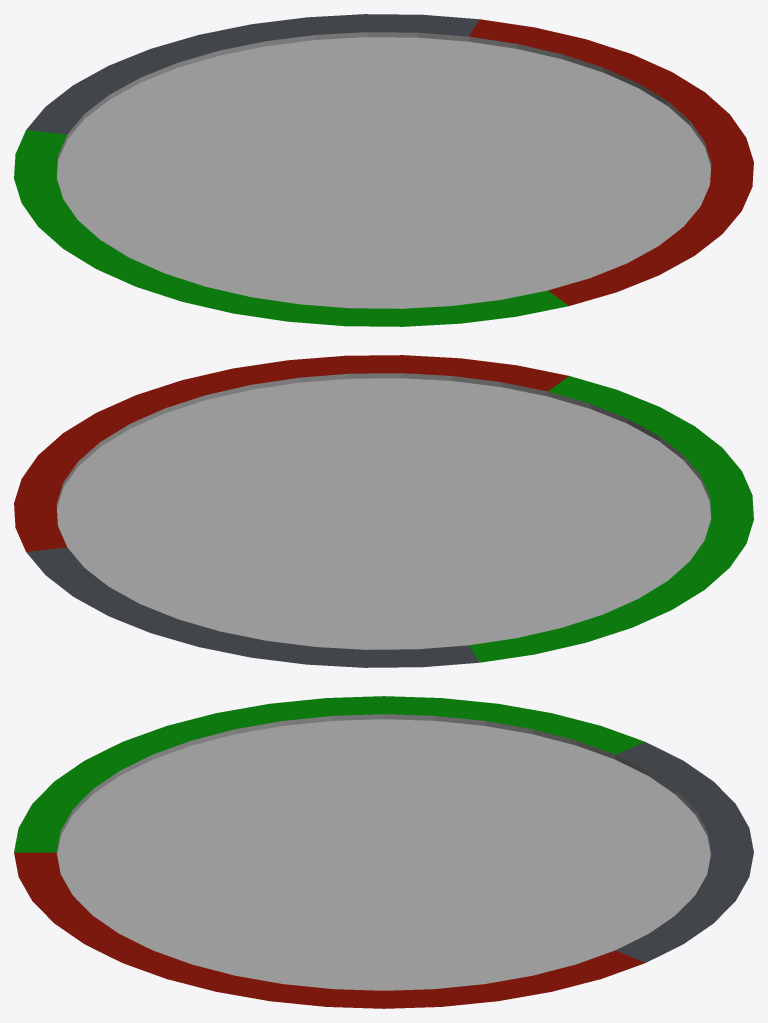
The picture shows the model from 3 angles, top to bottom: view 1: azimuth 30°, elevation 25°; view 2: azimuth 150°, elevation 25°; view 3: azimuth 270°, elevation 25°; orthographic projection.
Parts seen in each view (by area): view 1: circle_GEO; view 2: circle_GEO; view 3: circle_GEO.
Part boxes in pixels (bbox=[...]): circle_GEO: bbox=[14, 14, 753, 326]; circle_GEO: bbox=[14, 355, 753, 667]; circle_GEO: bbox=[14, 696, 753, 1008].
Bounding box in the file's own units: 0.5117 × 0.00384 × 0.5117.
